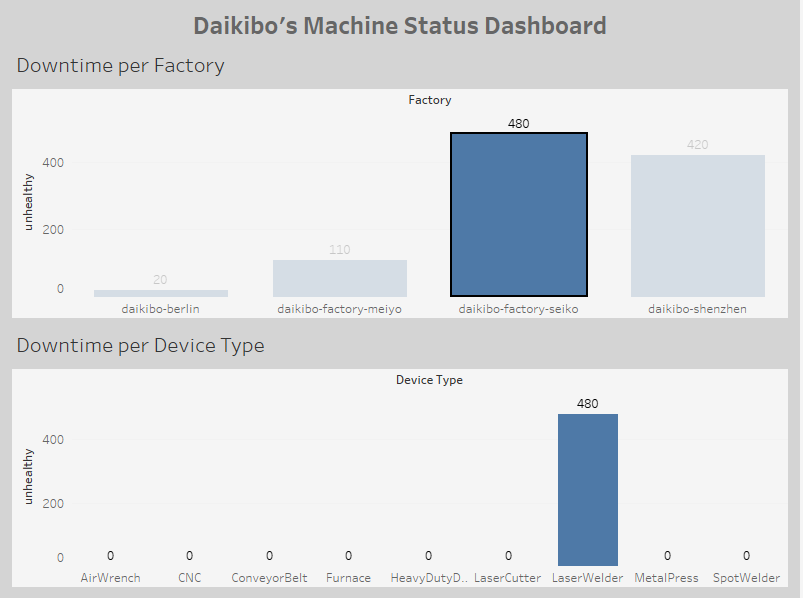

The dashboard page shown, as its layout file describes it:
{"tool":"tableau","page":{"name":"Dashboard 1","canvas":[800,600],"ordinal":0},"visuals":[{"type":"text","box":[8,8,784,35]},{"type":"worksheet","title":"Downtime per Factory","mark":"Automatic","rows":["Calculation_550283613419114497"],"cols":["factory"],"box":[8,43,784,280]},{"type":"worksheet","title":"Downtime per Device Type","mark":"Bar","rows":["Calculation_550283613419114497"],"cols":["deviceType"],"box":[8,323,784,269]}]}

Visuals, with their boxes in screenshot pixels (x1, y1, x2, y2), scaled from the page's 800x600 canvas onto the 803x598 screenshot:
text: 8:8:795:43
"Downtime per Factory" worksheet: 8:43:795:322
"Downtime per Device Type" worksheet (Bar marks): 8:322:795:590
